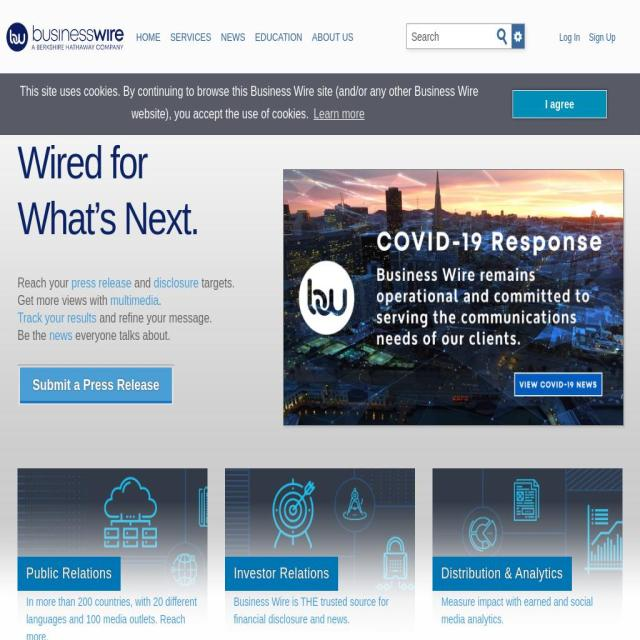button: (224, 468, 415, 632), (18, 468, 208, 632), (432, 468, 622, 632), (17, 363, 175, 405), (512, 89, 607, 119), (250, 18, 308, 58), (307, 18, 359, 58), (165, 18, 216, 58), (311, 101, 367, 127), (131, 18, 166, 58), (216, 18, 250, 58), (584, 21, 620, 55), (554, 21, 585, 55)
field: (407, 24, 499, 48)
heading: (17, 133, 245, 274), (432, 557, 572, 591), (224, 557, 338, 591), (18, 557, 120, 591)
image: (283, 168, 623, 425), (224, 468, 479, 632), (18, 468, 272, 632), (432, 468, 640, 632)
link: (26, 595, 197, 640), (233, 595, 389, 627), (441, 595, 593, 627), (17, 310, 97, 325), (71, 275, 132, 290), (110, 292, 159, 308), (153, 275, 199, 290), (48, 328, 72, 342)
text: (19, 83, 478, 121), (20, 367, 172, 401), (96, 310, 212, 325), (18, 292, 110, 308), (72, 328, 172, 342), (0, 2, 68, 15), (18, 275, 72, 290), (255, 31, 303, 43), (198, 275, 235, 290), (312, 31, 354, 43), (170, 31, 211, 43), (18, 328, 50, 342), (132, 275, 154, 290), (220, 31, 246, 43), (136, 31, 160, 43), (158, 292, 161, 308)
